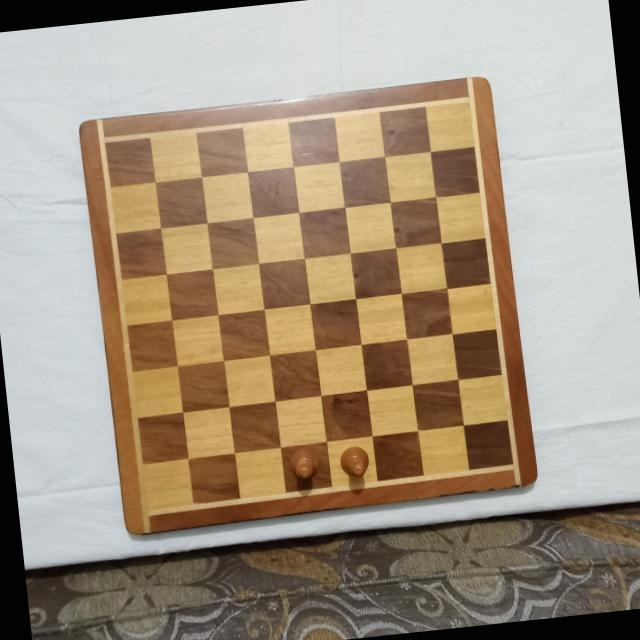white-pawn: (337, 444, 371, 481), (289, 444, 320, 481)
